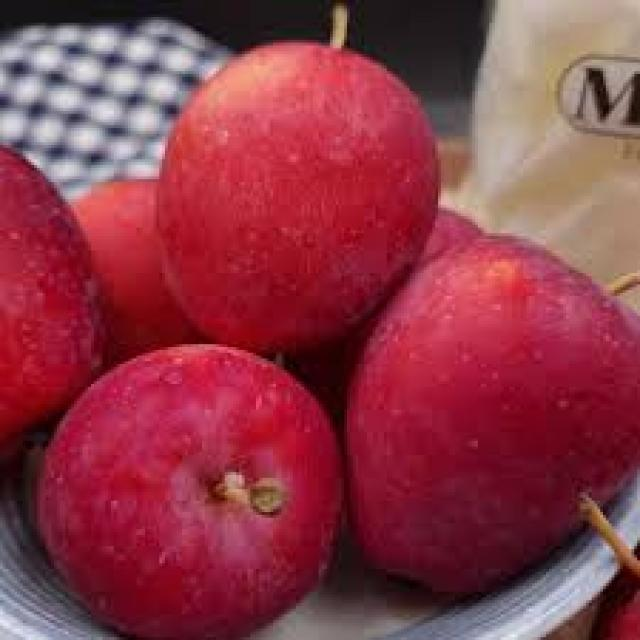Apple: (341, 230, 637, 594), (153, 5, 441, 352), (31, 341, 344, 637), (0, 133, 108, 476), (66, 176, 187, 355), (417, 206, 489, 266)
